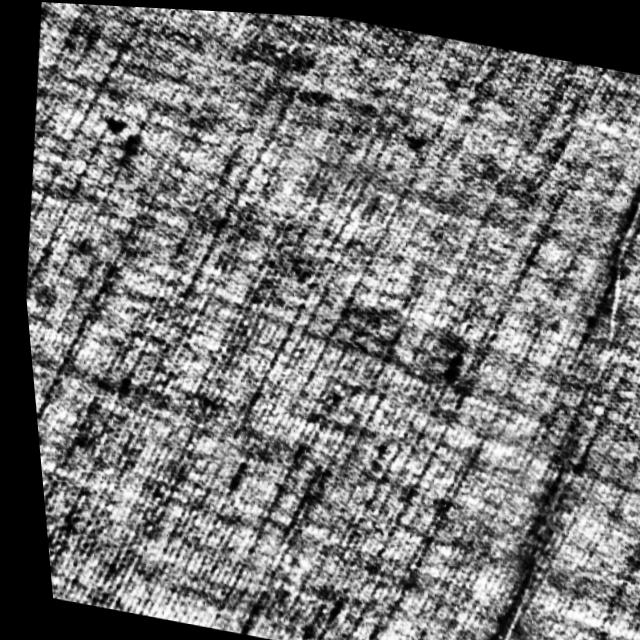Stitch: (425, 41, 640, 640)
